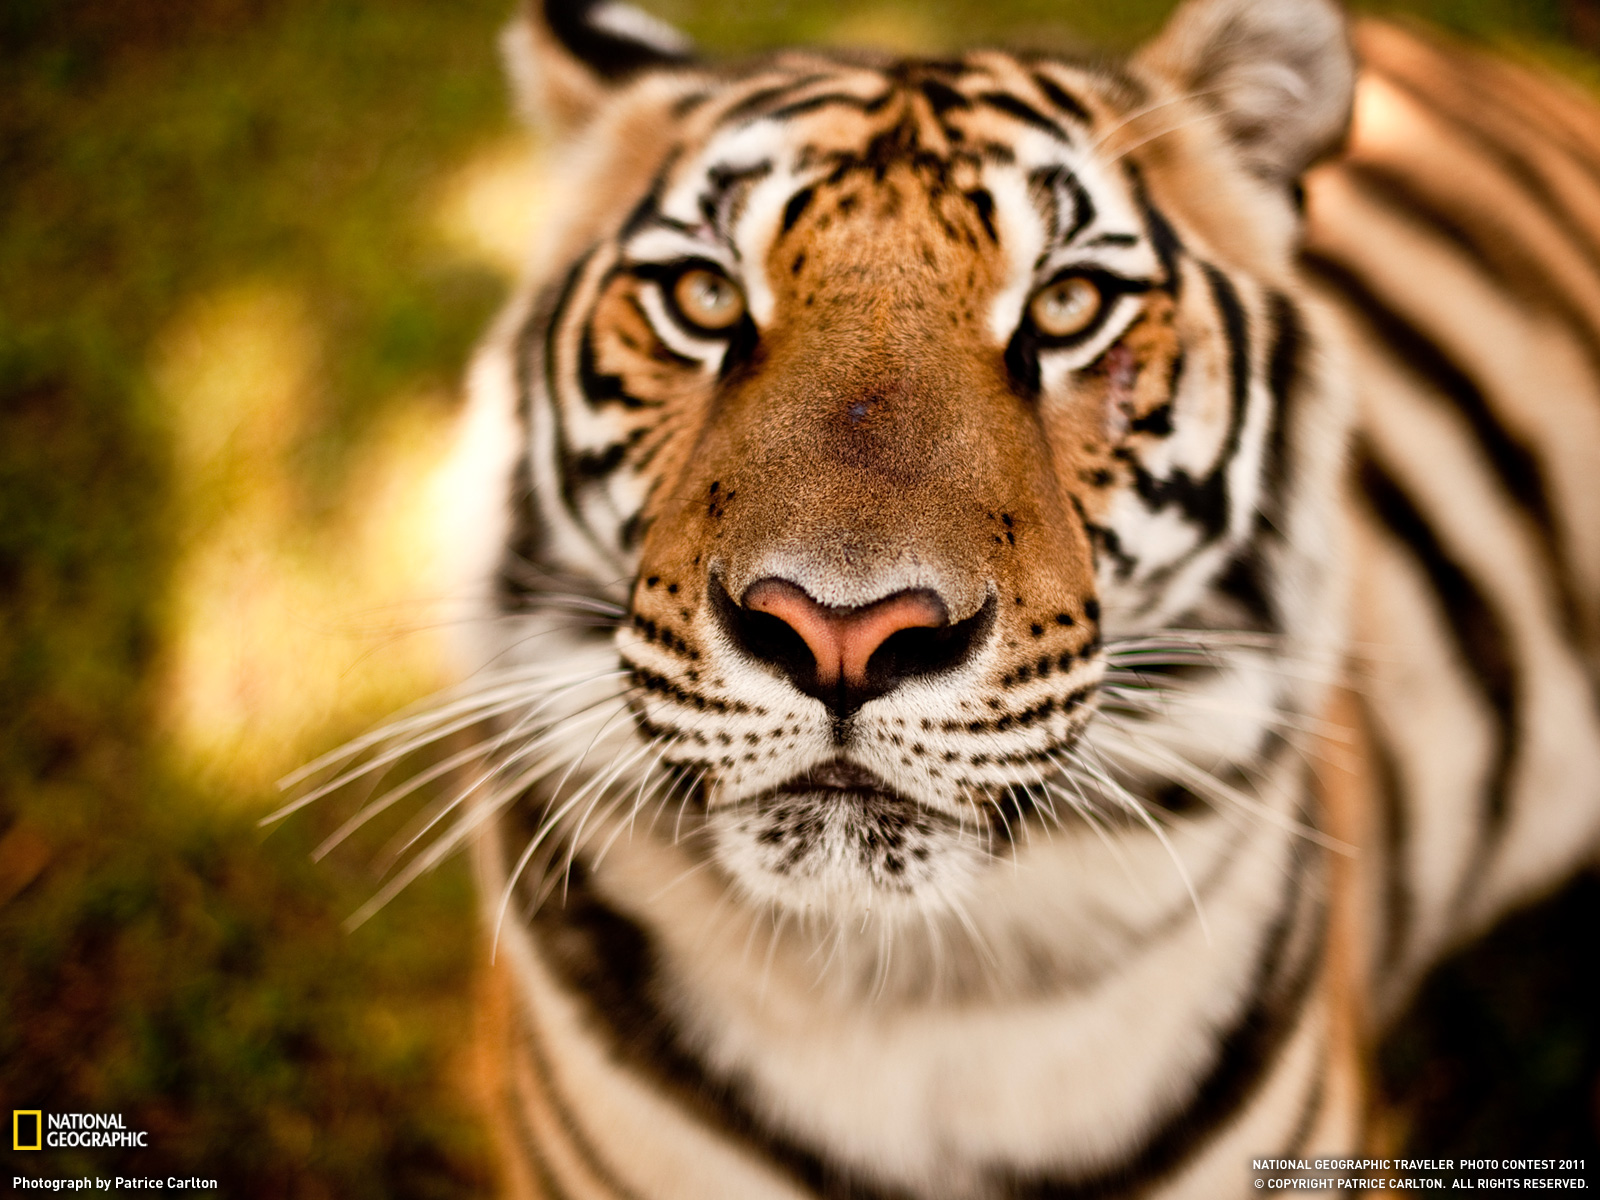cat: (985, 587, 1455, 987)
dog: (115, 81, 619, 568)
